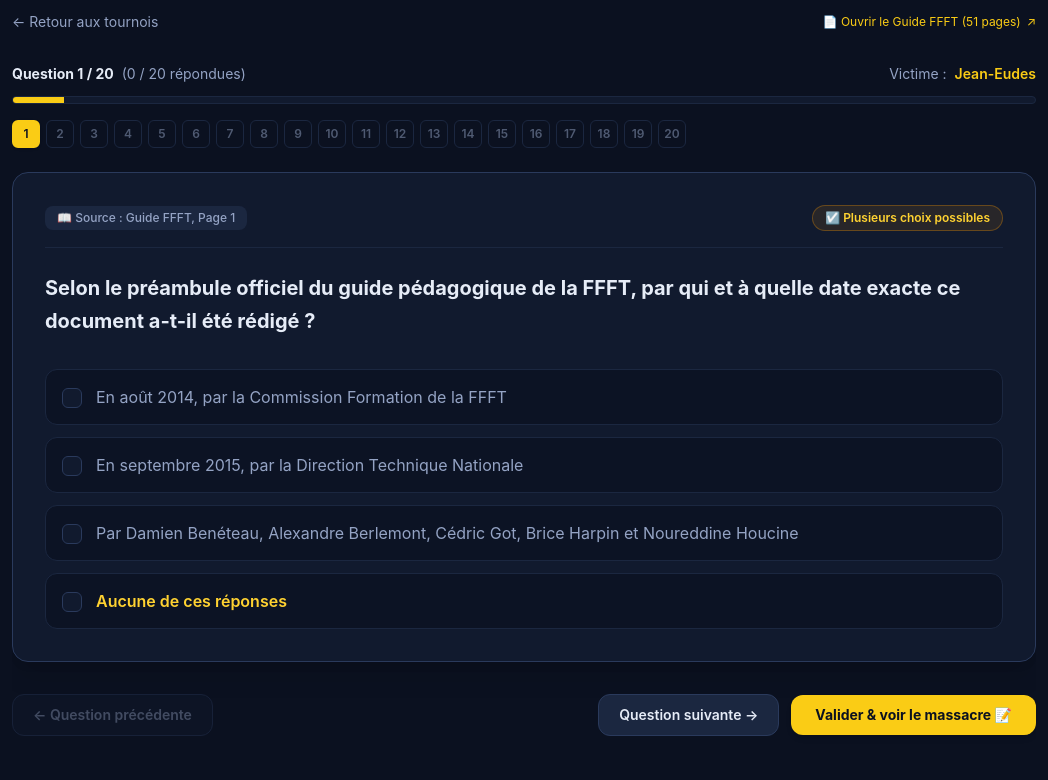
Test: QuizView › navigates across questions with next and prev buttons
Click the button "Question suivante →": (689,715) x1=598 y1=694 x2=779 y2=736
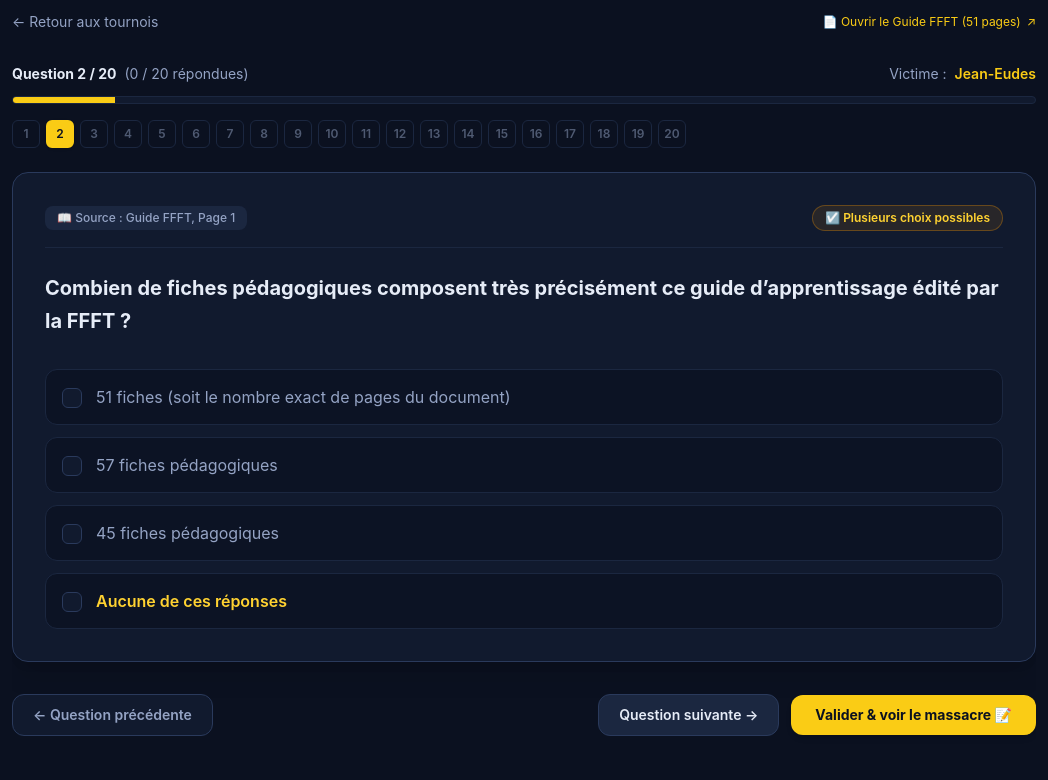
expect the text "Question 2 / 20" is shown: met, box x1=12 y1=64 x2=116 y2=84
Click the button "← Question précédente": (112,715) x1=12 y1=694 x2=213 y2=736
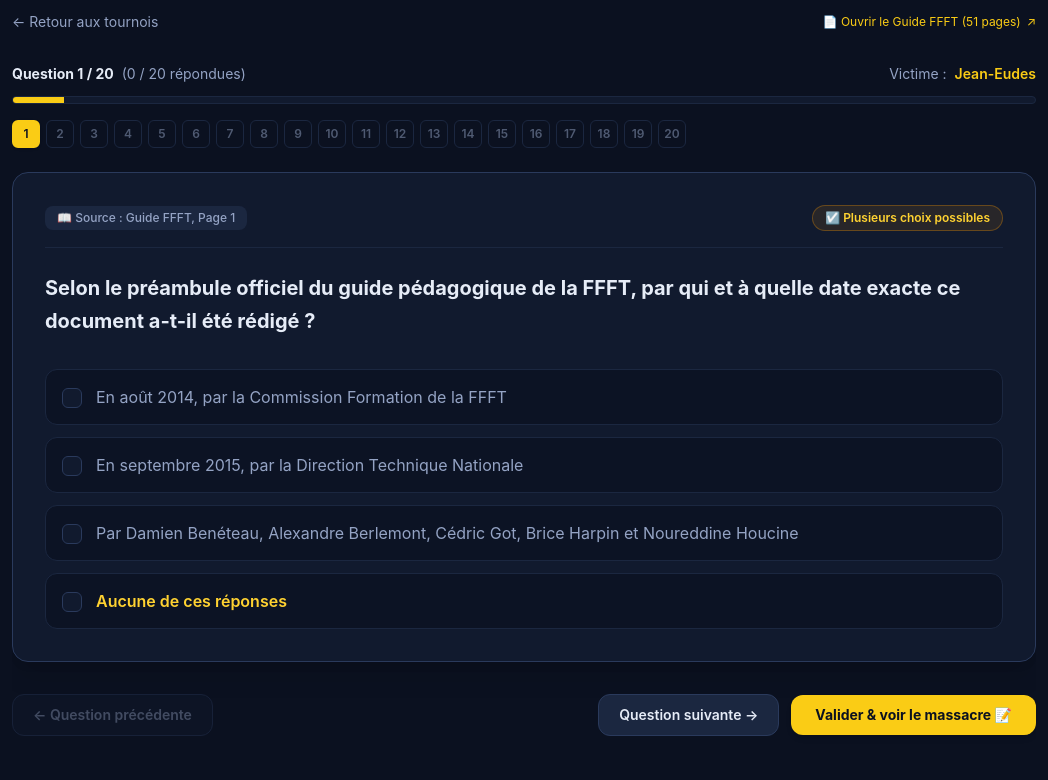
expect the text "Question 1 / 20" is shown: met, box x1=12 y1=64 x2=114 y2=84
